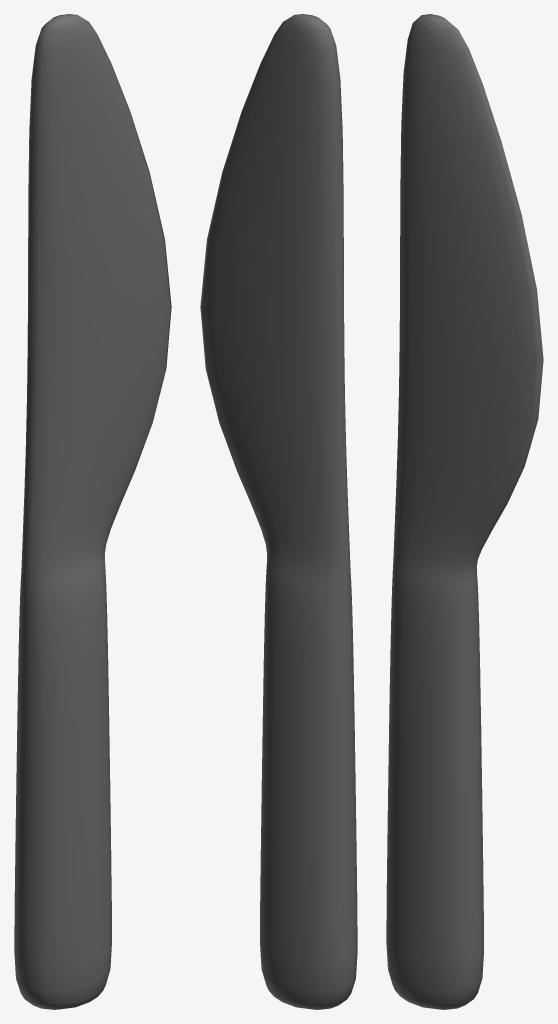
File: Knife.fbx
3 renders of one model, left to right at view 1: azimuth 30°, elevation 25°; view 2: azimuth 150°, elevation 25°; view 3: azimuth 330°, elevation 25°, orthographic.
Visible parts, largest first — view 1: Cube; view 2: Cube; view 3: Cube.
Boxes of the visible parts, left/top/right/bottom form: Cube: left=14, top=14, right=171, bottom=1009; Cube: left=200, top=14, right=357, bottom=1009; Cube: left=386, top=14, right=543, bottom=1009.
Size of the model in its own units: 88.73 by 548 by 37.4.
Materials: 1 (1 with a texture image).
